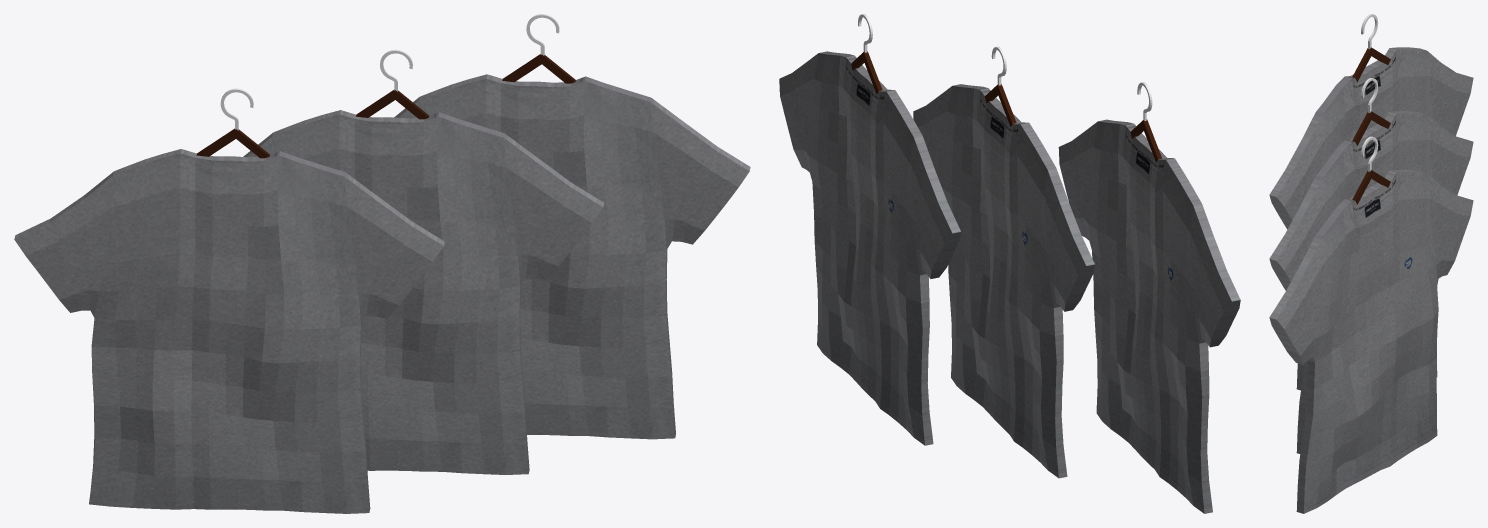
The model's file is tshirtgrey.glb.
The picture shows the model from 3 angles, left to right: view 1: azimuth 30°, elevation 25°; view 2: azimuth 150°, elevation 25°; view 3: azimuth 270°, elevation 25°; orthographic projection. The views are drawn at different scales.
Parts seen in each view (by area): view 1: Plane.451; view 2: Plane.451; view 3: Plane.451.
Boxes of the visible parts, x1=… form: Plane.451: x1=14, y1=14, x2=750, y2=513; Plane.451: x1=779, y1=14, x2=1240, y2=513; Plane.451: x1=1269, y1=14, x2=1473, y2=513.
Size of the model in its own units: 0.5907 by 0.3774 by 0.205.
Materials: 3 (3 with a texture image).
